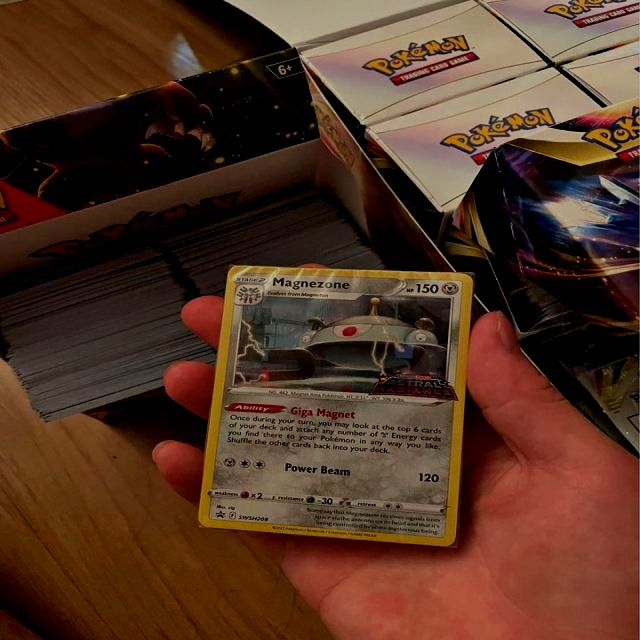card: (197, 265, 474, 547)
